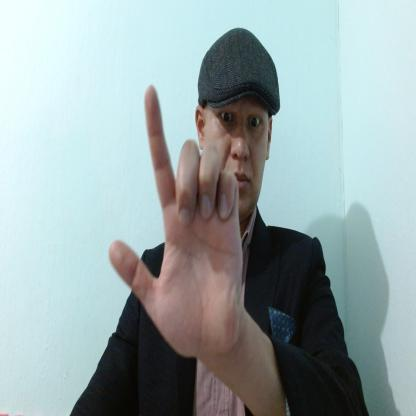L: (107, 84, 243, 360)
